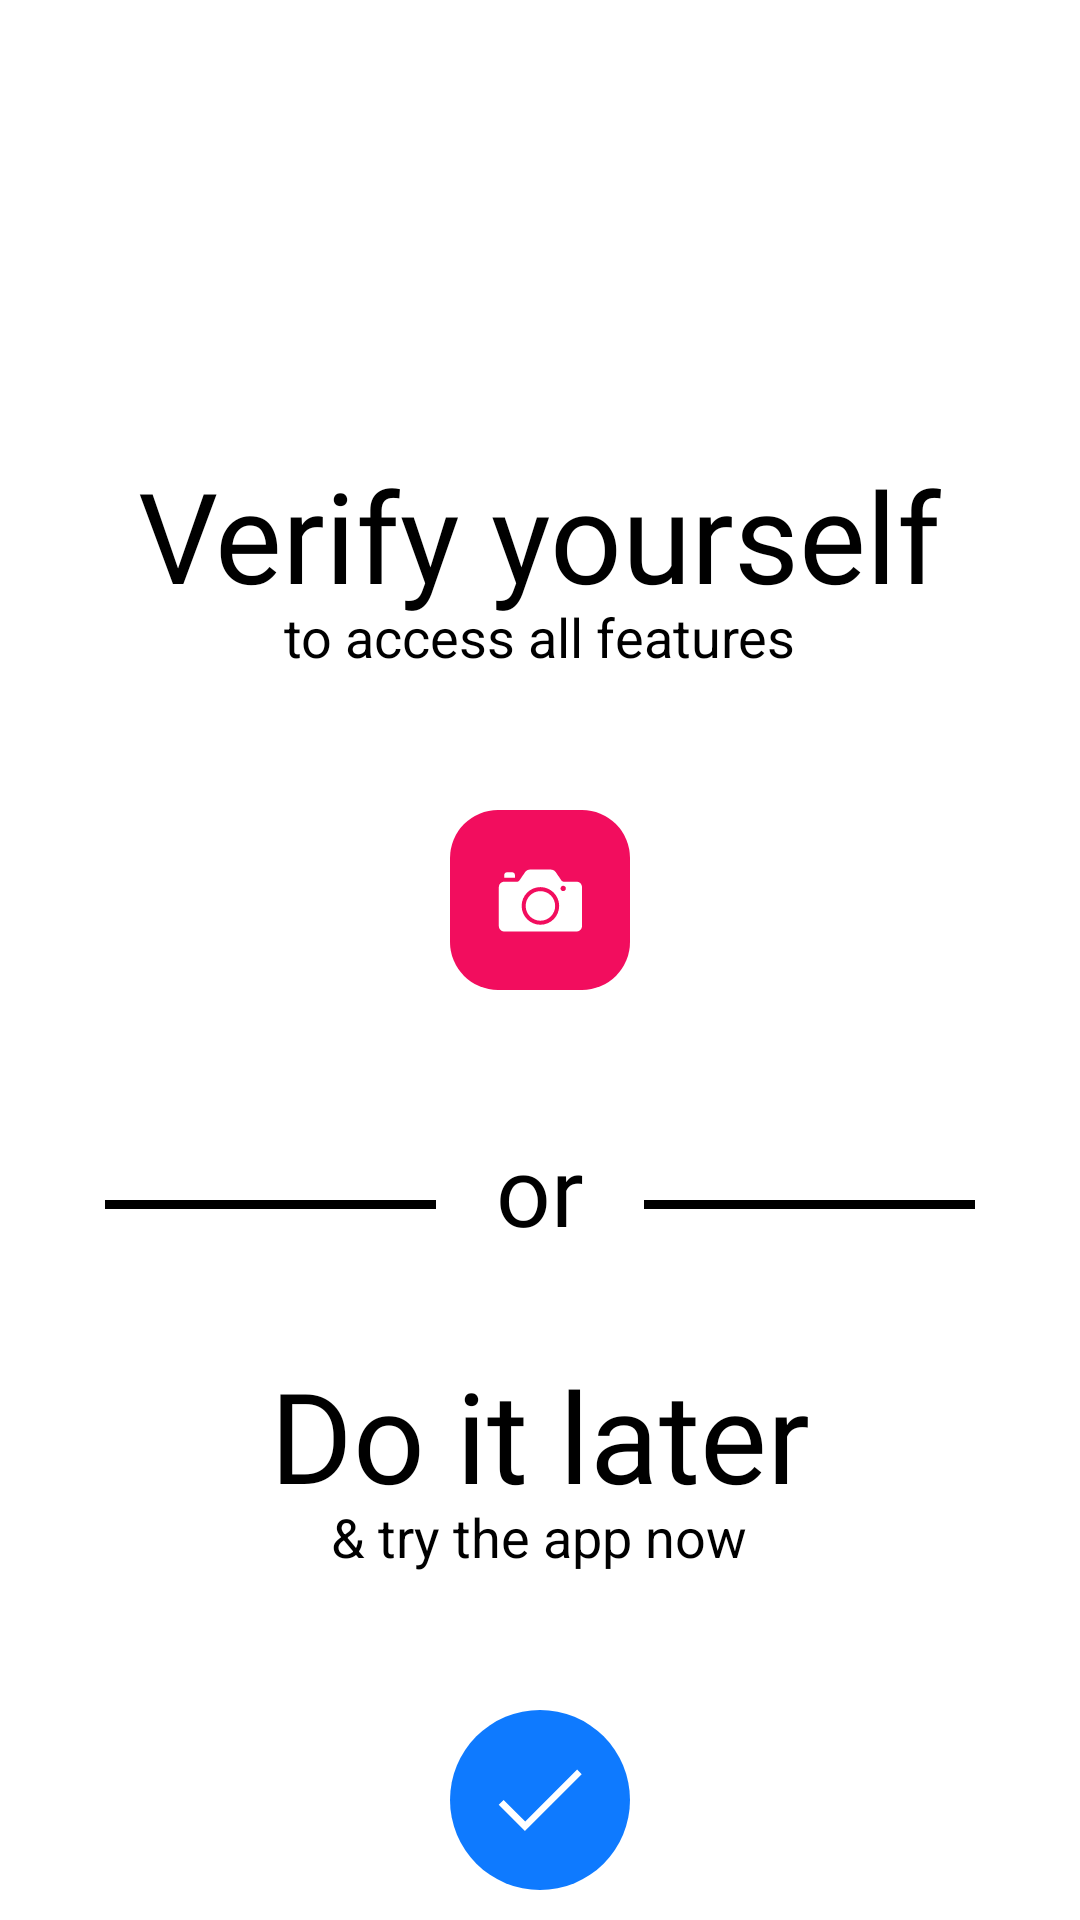

Point at icon controls on the screen. Image size 1080×1920, points as (x=x, y=y).
camera: (x=540, y=900)
done: (x=540, y=1800)
